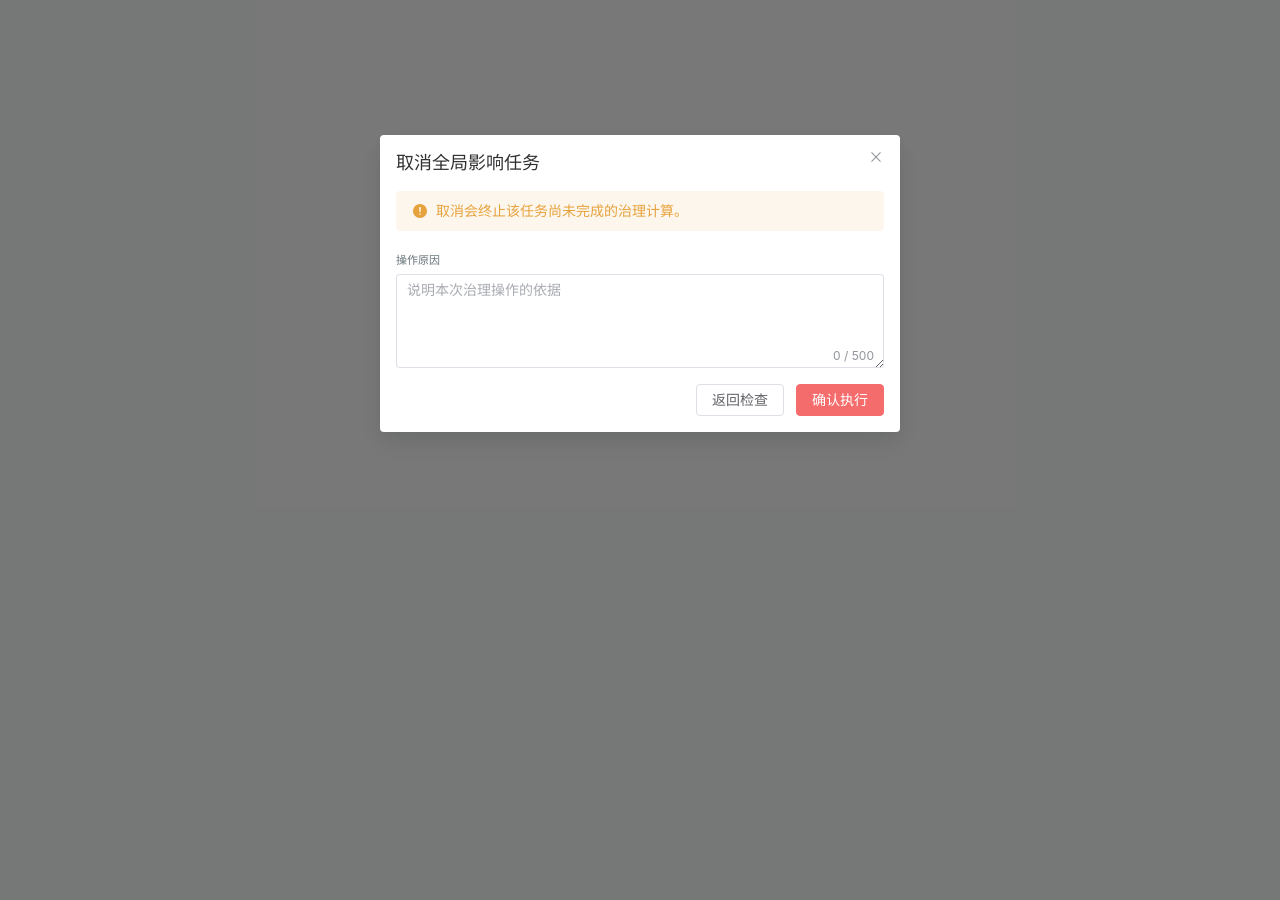
JobCommandDialog › requires an audited reason before cancelling
The image size is (1280, 900).
Click the button "确认执行" at (840, 400), box [796, 384, 884, 416]
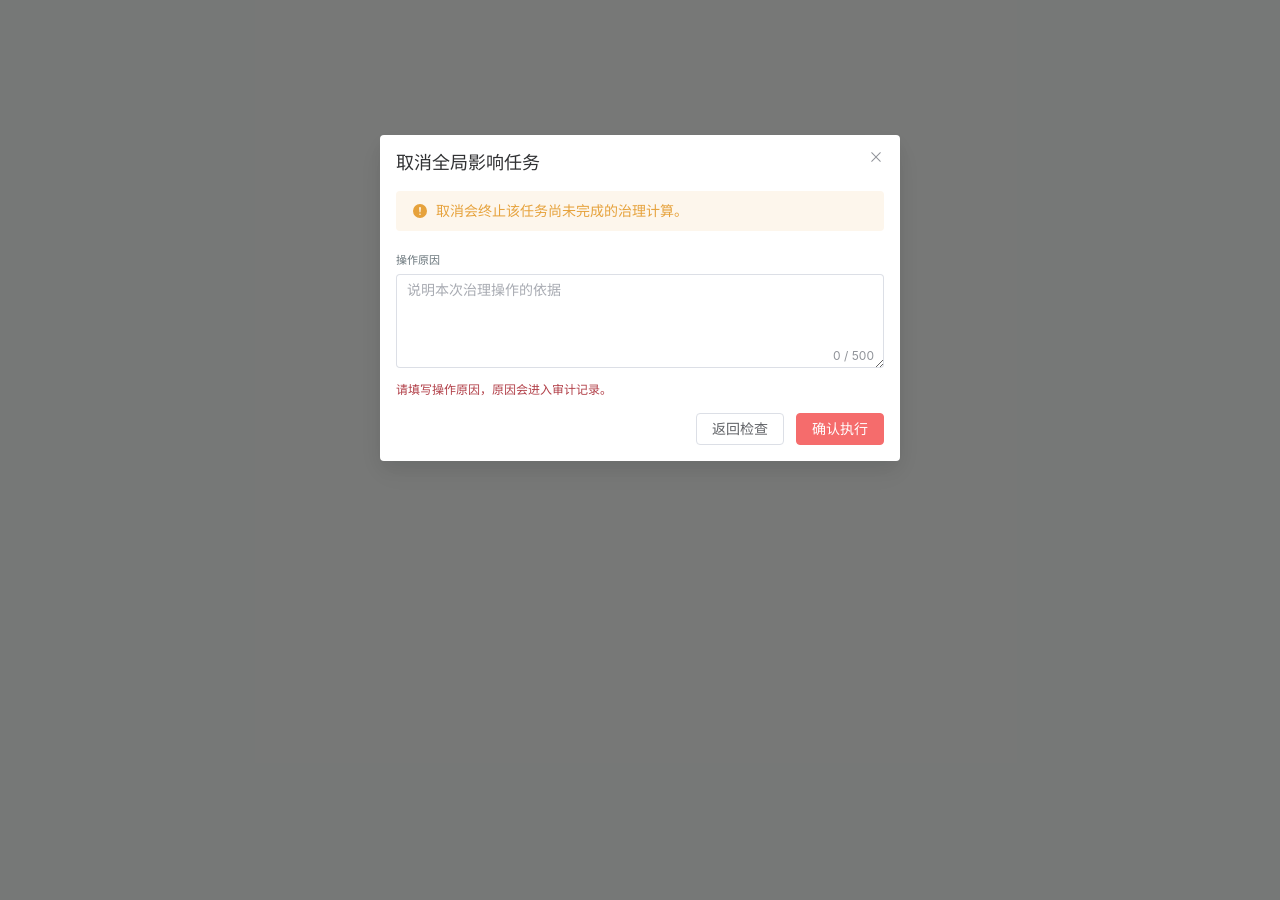
Expected: the text "请填写操作原因" is shown, [396, 382, 612, 397]
